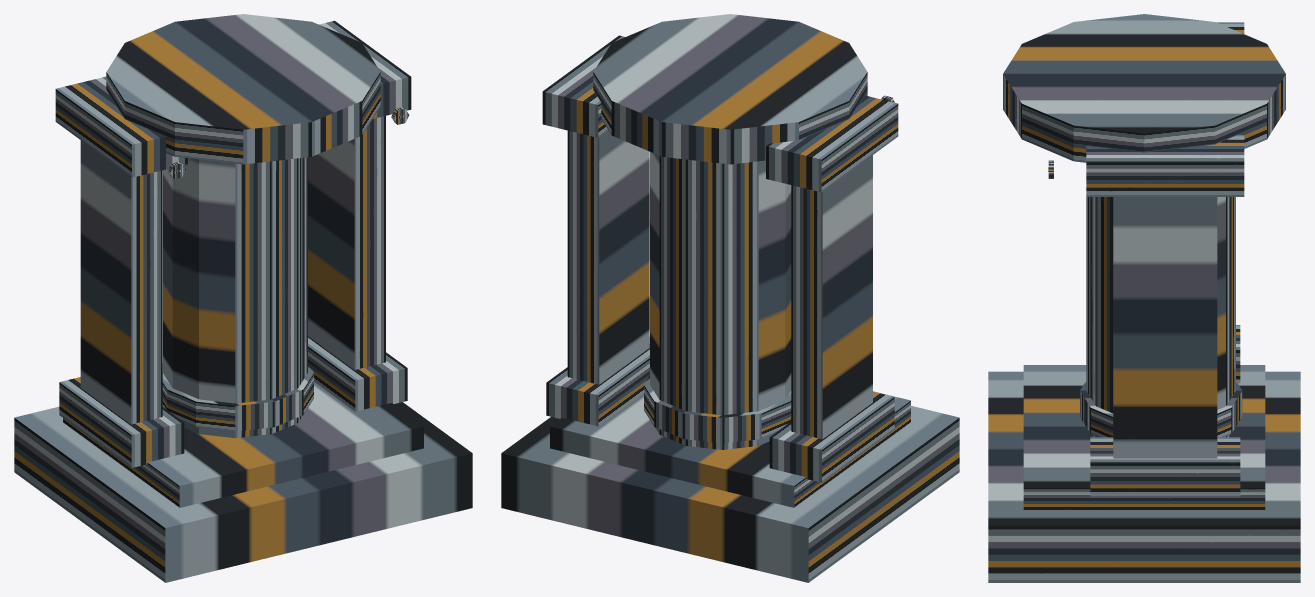
File: GatlingTurretBase.obj
3 views of the same model, side by side, from view 1: azimuth 30°, elevation 25°; view 2: azimuth 150°, elevation 25°; view 3: azimuth 270°, elevation 25° (orthographic). The views are drawn at different scales.
Parts seen in each view (by area): view 1: GatlingTurretBase; view 2: GatlingTurretBase; view 3: GatlingTurretBase.
Boxes of the visible parts, x1=… form: GatlingTurretBase: x1=14, y1=14, x2=472, y2=582; GatlingTurretBase: x1=501, y1=14, x2=959, y2=582; GatlingTurretBase: x1=988, y1=14, x2=1300, y2=582.
Bounding box in the file's own units: 1.76 × 2.29 × 1.5.
Materials: 1 (1 with a texture image).
